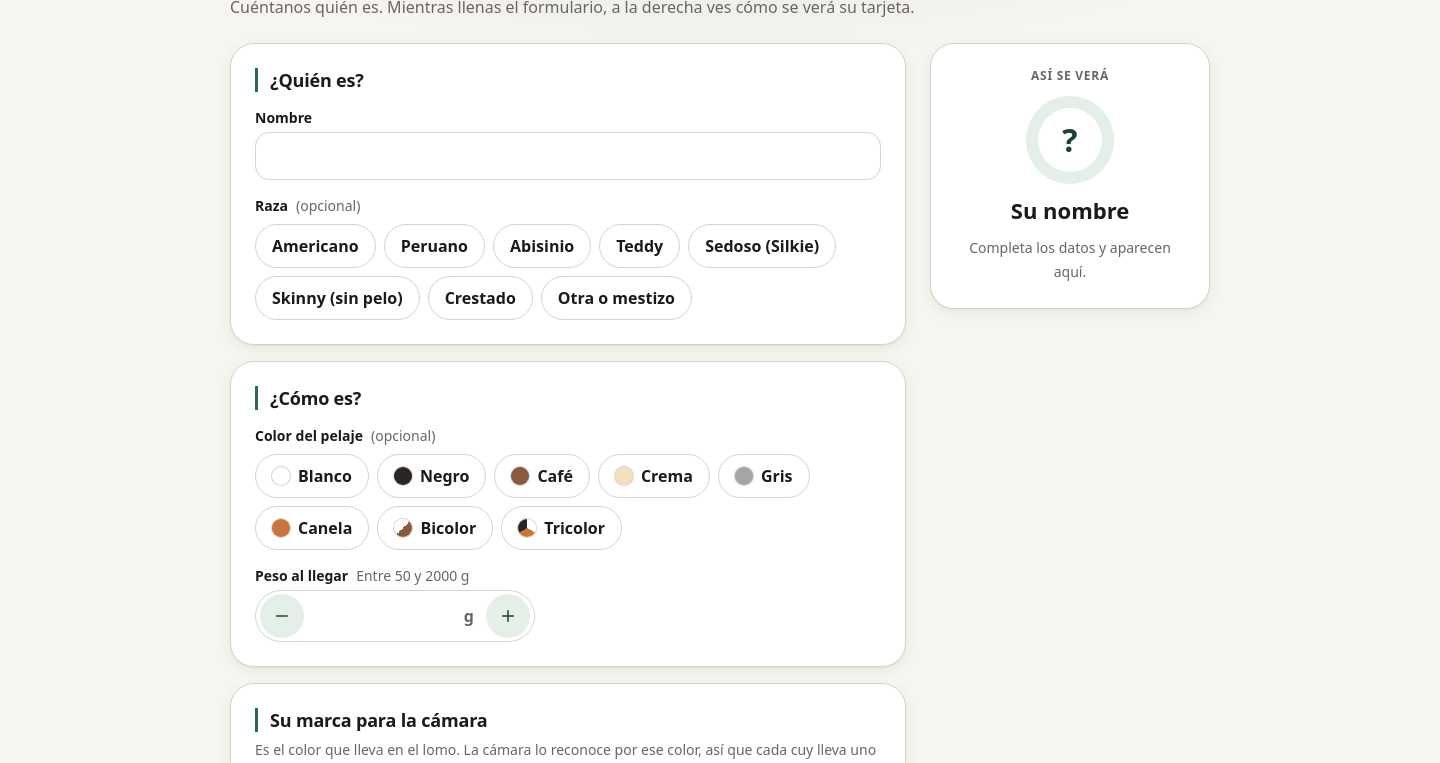
it: RegisterGuineaPig › says so when someone took the color in the meantime
The image size is (1440, 763).
Type "Manchas" into the field labelled "Nombre".
click(568, 156); type("Manchas")  # box [256,133,880,179]
(page scrolled)
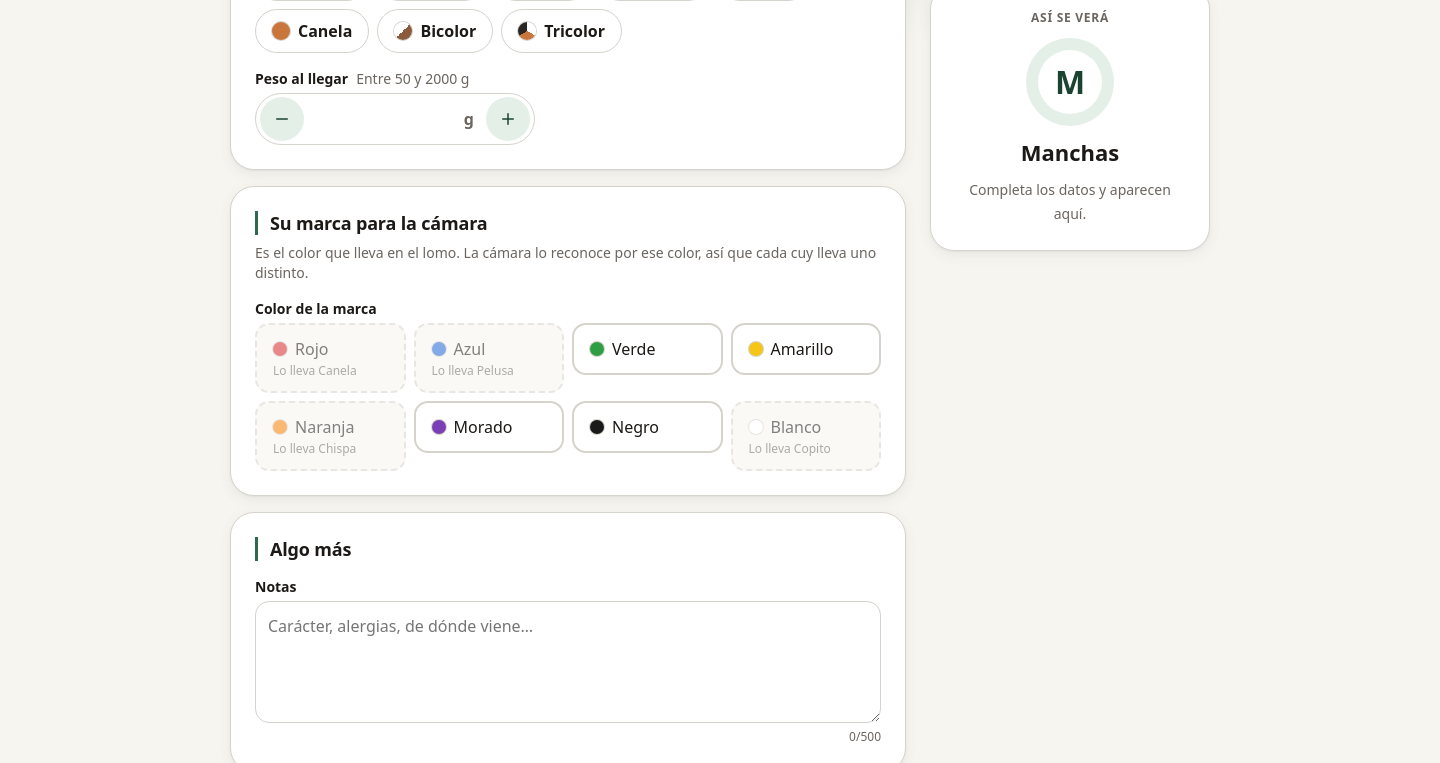
Click the radio button labelled "Verde".
click(647, 358)  # box [572,323,722,393]
(page scrolled)
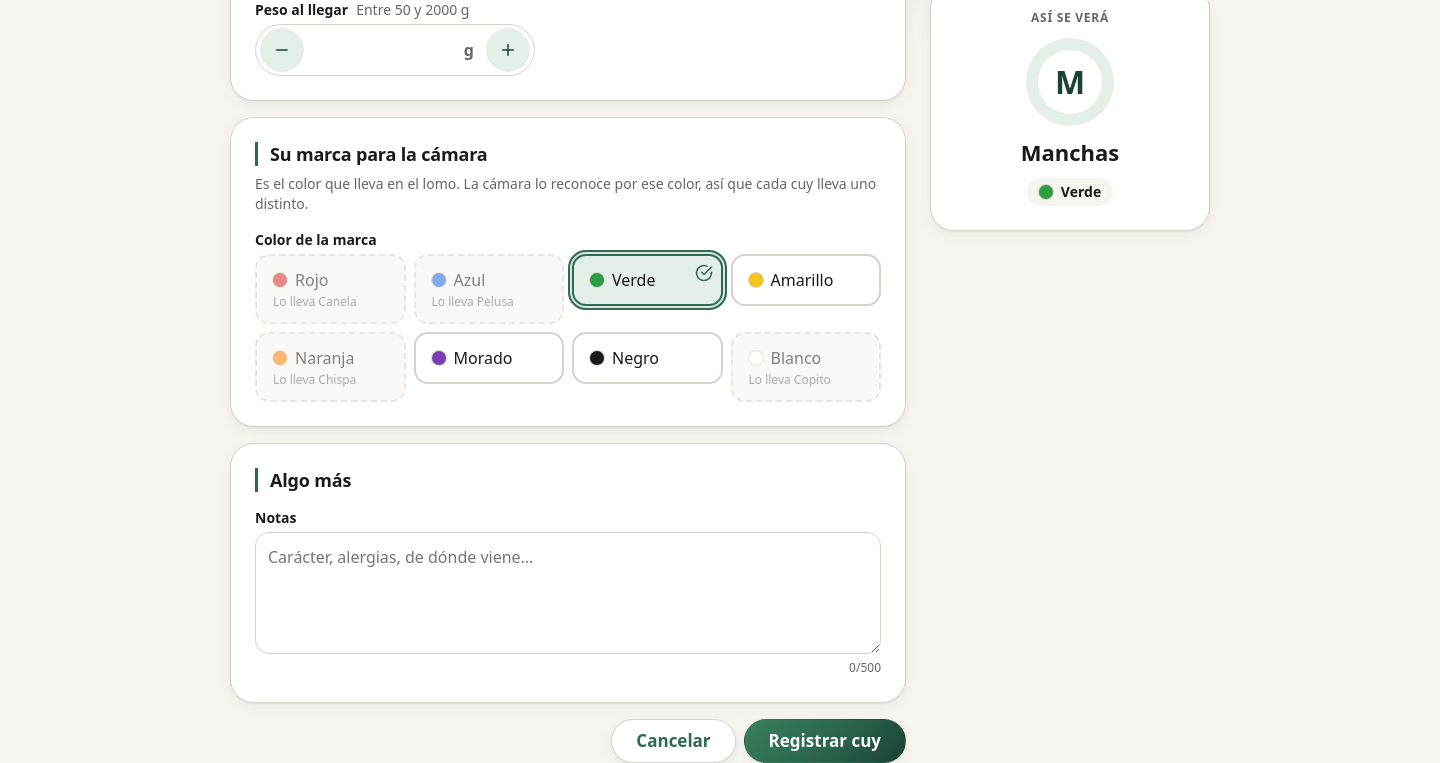
Click the button "Registrar cuy".
click(825, 741)  # box [744,719,906,762]
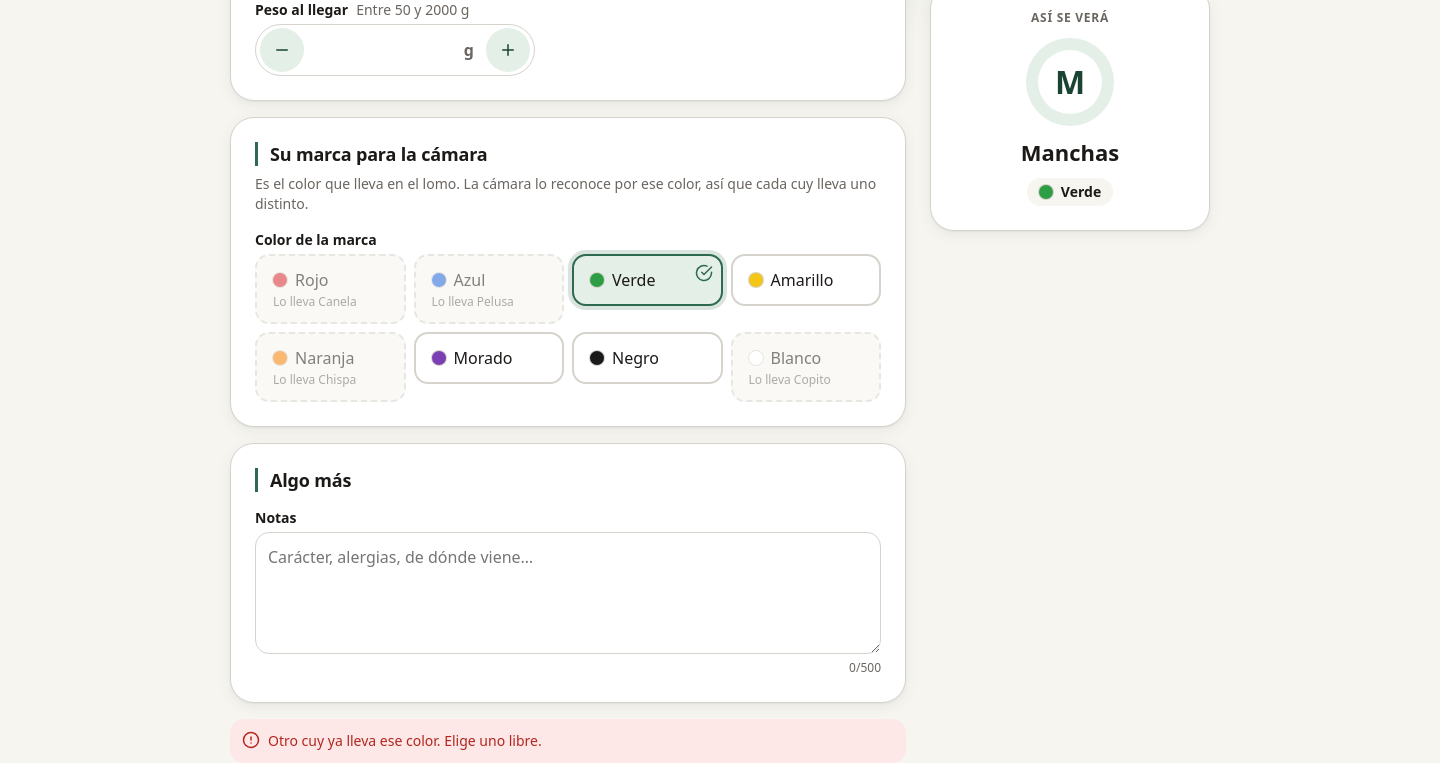
Expected: the text "Otro cuy ya lleva ese color. Elige uno libre." is shown, [230,719,906,762]
